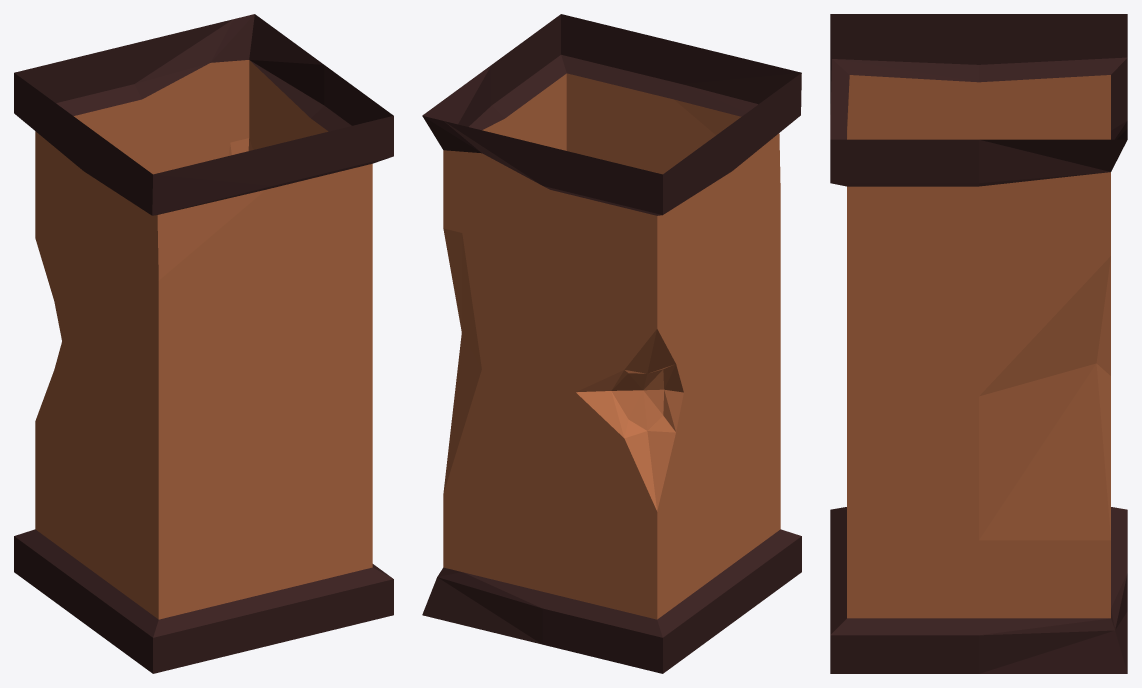
File: SM_tower_rect_02.fbx
3 renders of one model, left to right at view 1: azimuth 30°, elevation 25°; view 2: azimuth 150°, elevation 25°; view 3: azimuth 270°, elevation 25°, orthographic. The views are drawn at different scales.
Visible parts, largest first — view 1: tower_rect_02; view 2: tower_rect_02; view 3: tower_rect_02.
Part boxes in pixels (x1=…): tower_rect_02: x1=14, y1=14, x2=393, y2=673; tower_rect_02: x1=422, y1=14, x2=801, y2=673; tower_rect_02: x1=830, y1=14, x2=1127, y2=673.
Bounding box in the file's own units: 227 × 451 × 227.
